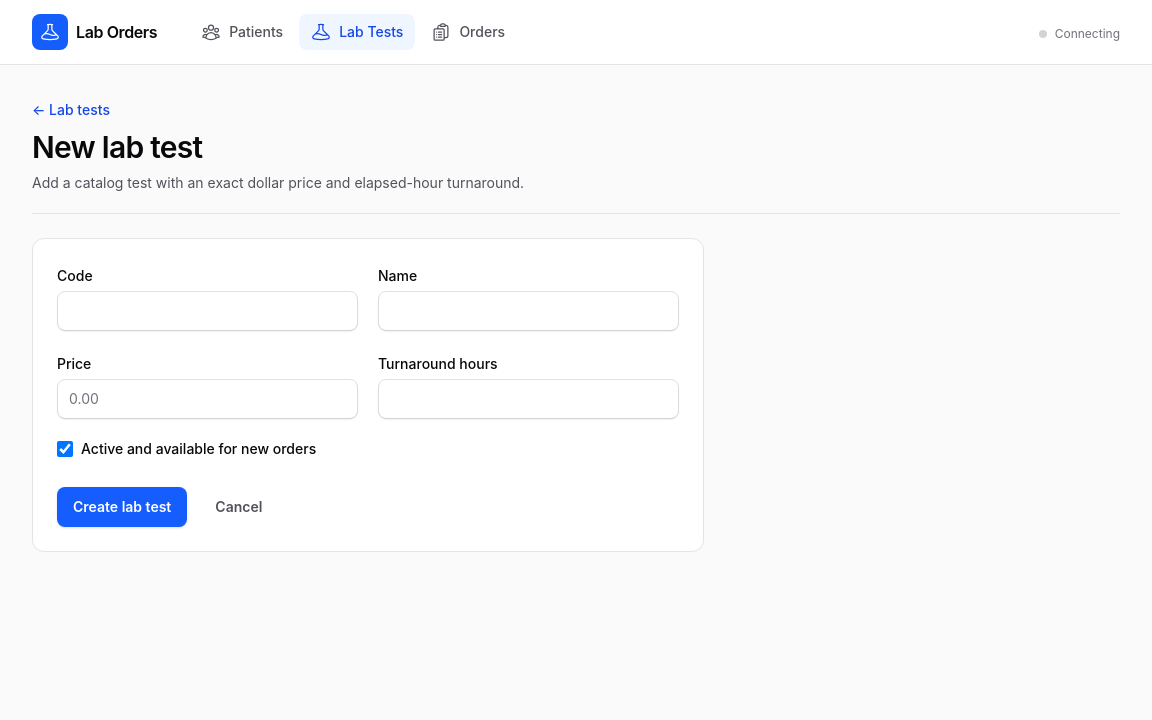
Scenario: rejects a partially numeric turnaround value
This screenshot has width=1152, height=720.
In the field labelled "Code": (208, 311) [57,291,358,331], type "CBC"
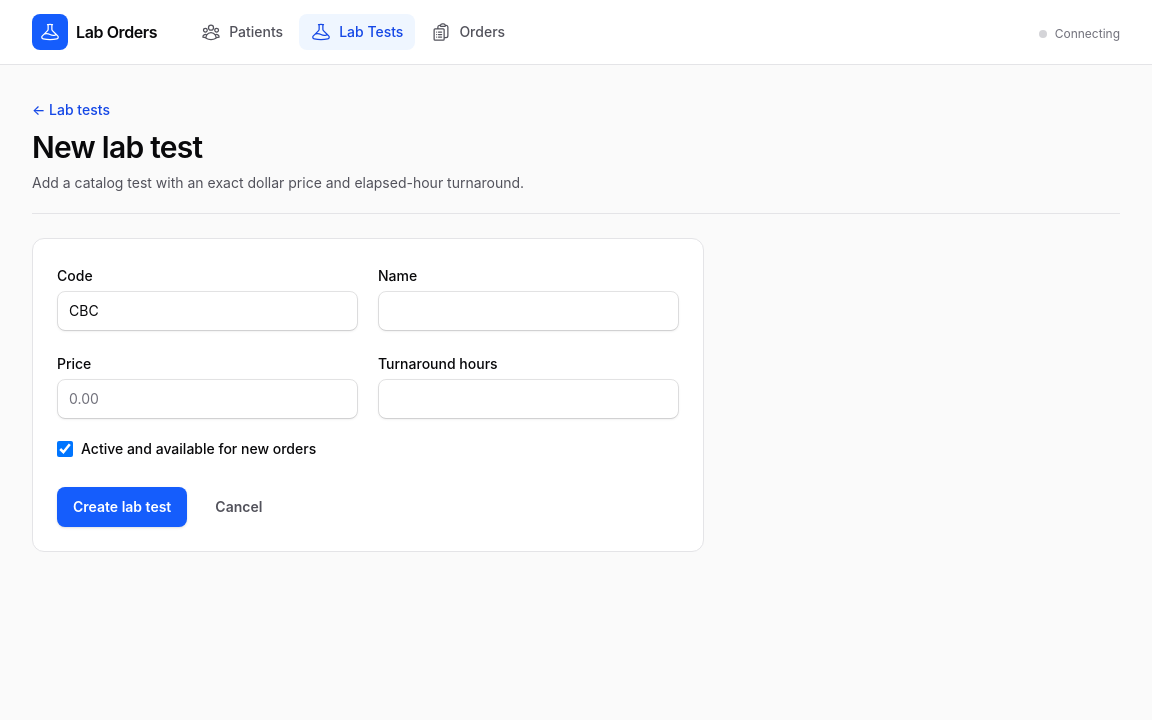
In the field labelled "Name": (528, 311) [378,291,679,331], type "Complete Blood Count"
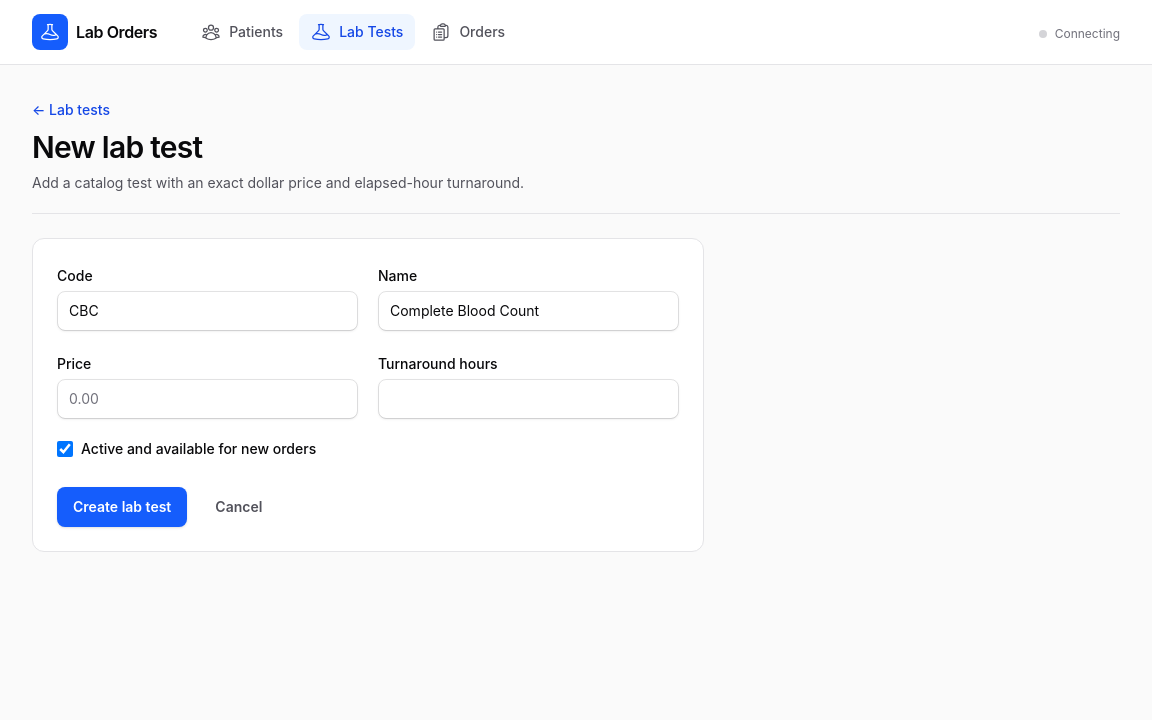
In the field labelled "Price": (208, 399) [57,379,358,419], type "30"
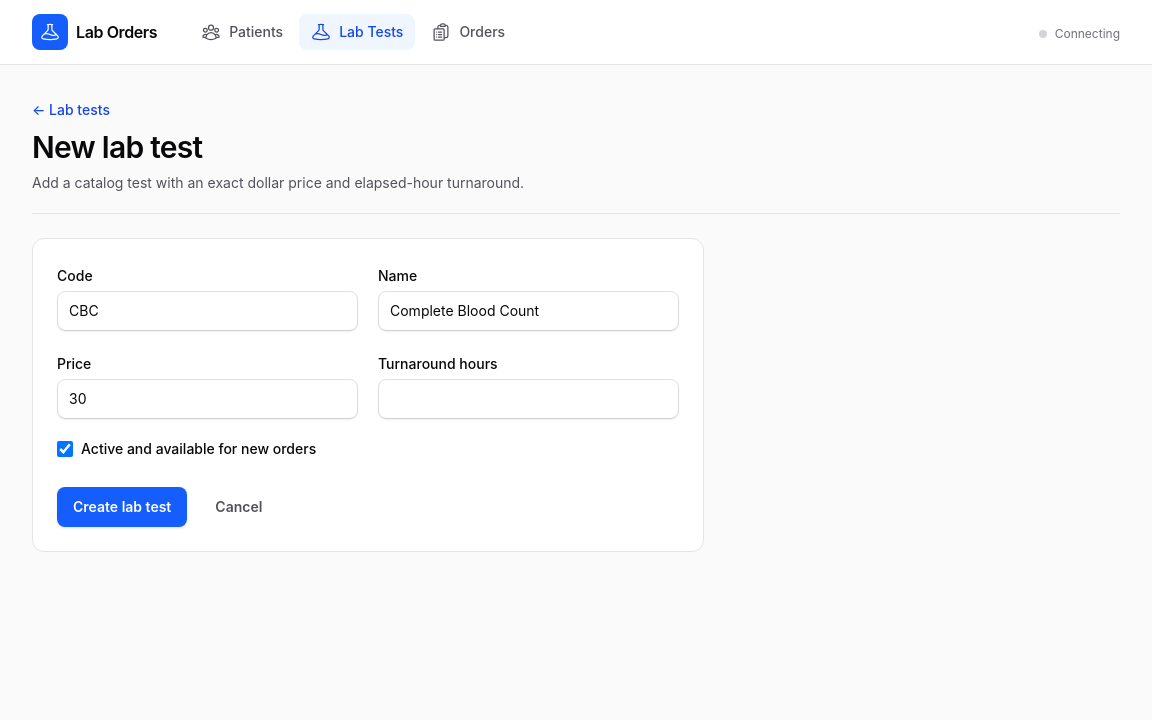
In the field labelled "Turnaround hours": (528, 399) [378,379,679,419], type "24hours"
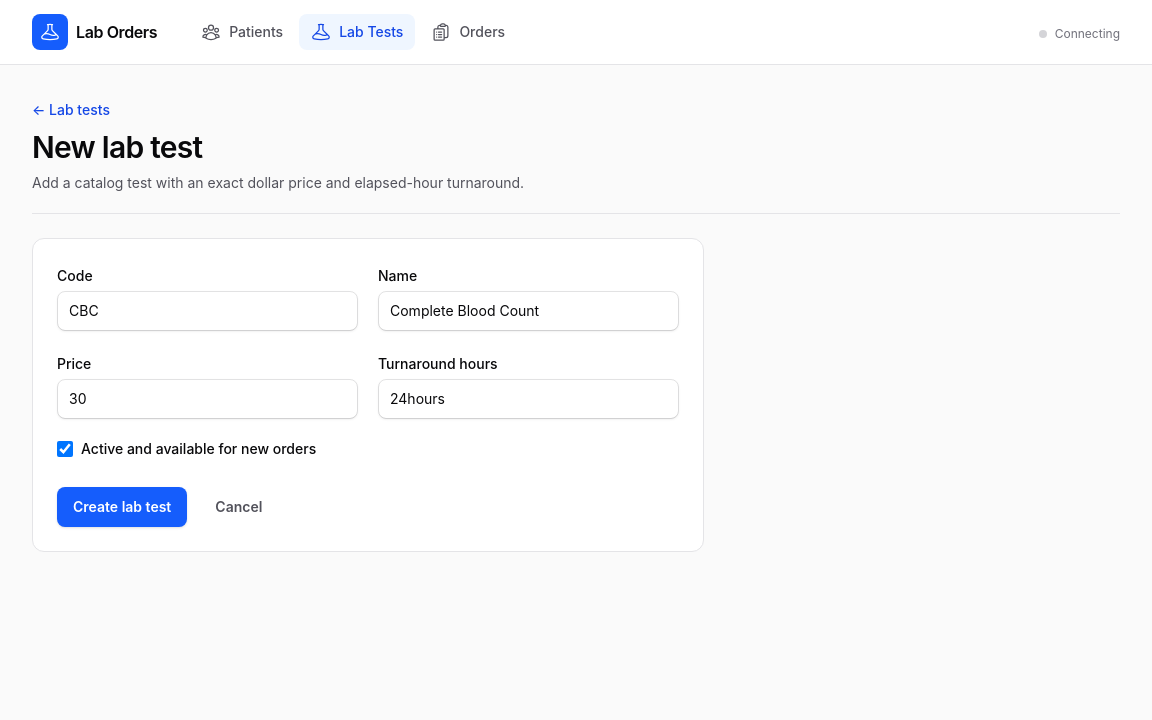
Click the button "Create lab test": (122, 507) [57,487,187,527]
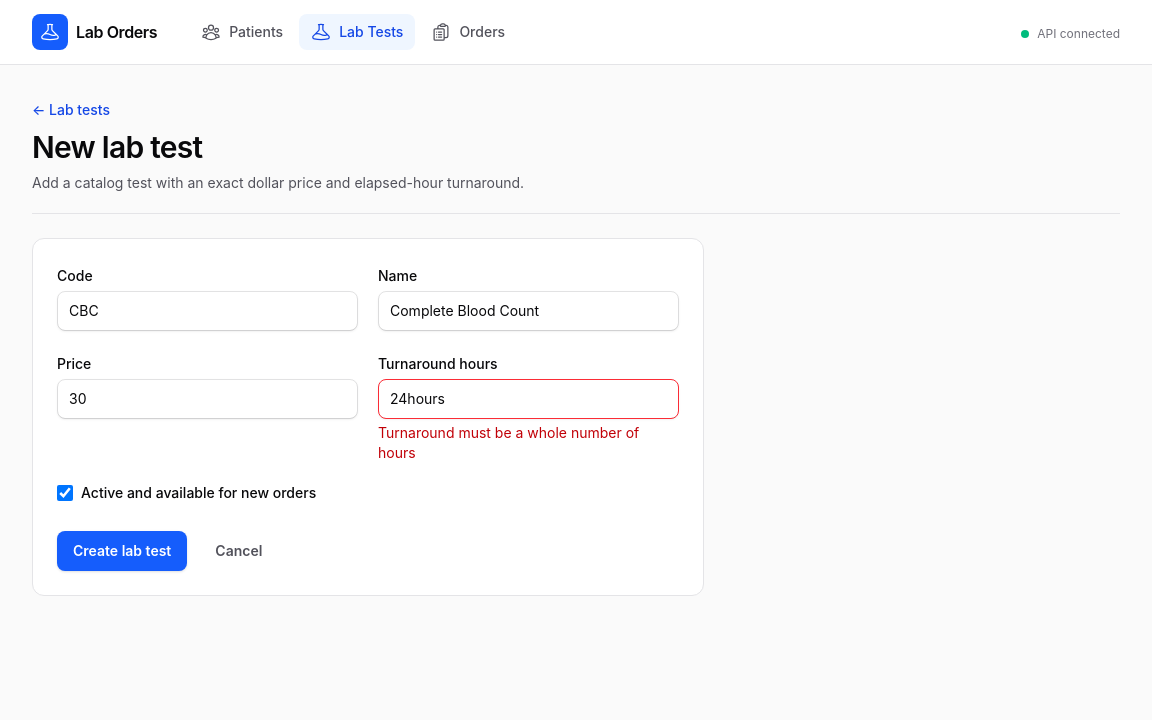
Check: the text "Turnaround must be a whole number of hours" is shown, box [378,423,679,463]
